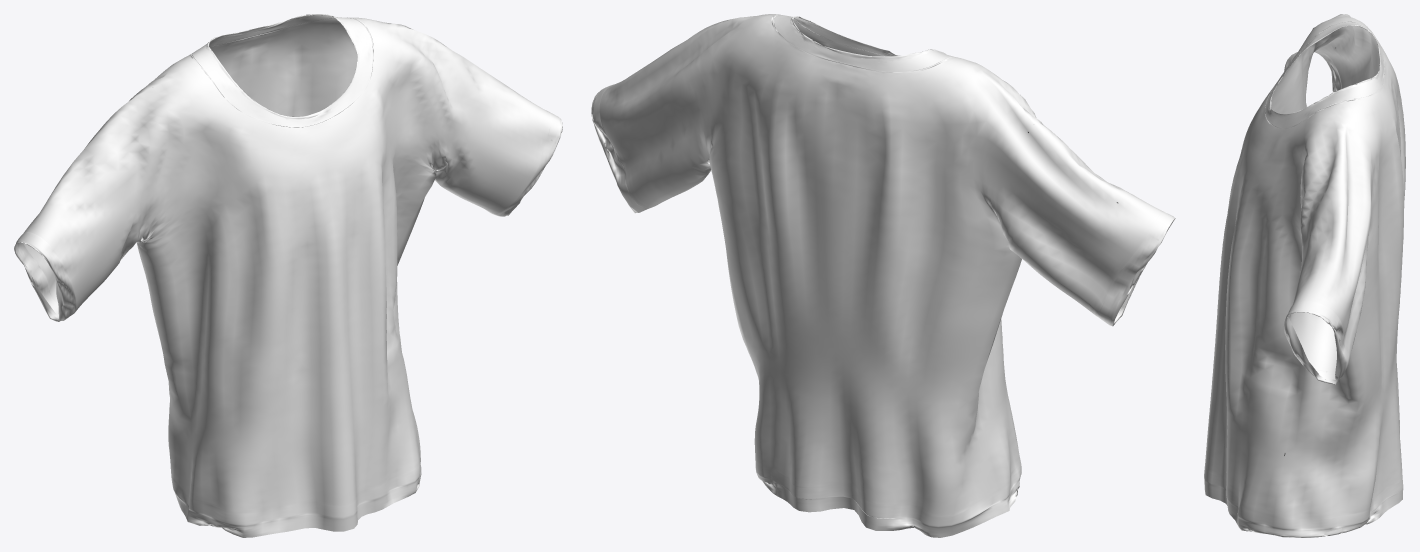
The model's file is Petite_Tshirt_L.glb.
The picture shows the model from 3 angles, left to right: view 1: azimuth 30°, elevation 25°; view 2: azimuth 150°, elevation 25°; view 3: azimuth 270°, elevation 25°; orthographic projection. The views are drawn at different scales.
Visible parts, largest first — view 1: TShirt_for_Genesis.008; view 2: TShirt_for_Genesis.008; view 3: TShirt_for_Genesis.008.
Part boxes in pixels (bbox=[...]): TShirt_for_Genesis.008: bbox=[14, 14, 562, 537]; TShirt_for_Genesis.008: bbox=[591, 14, 1175, 537]; TShirt_for_Genesis.008: bbox=[1204, 14, 1405, 537].
Bounding box in the file's own units: 18 × 14.29 × 5.95.
Materials: 1 (1 with a texture image).
